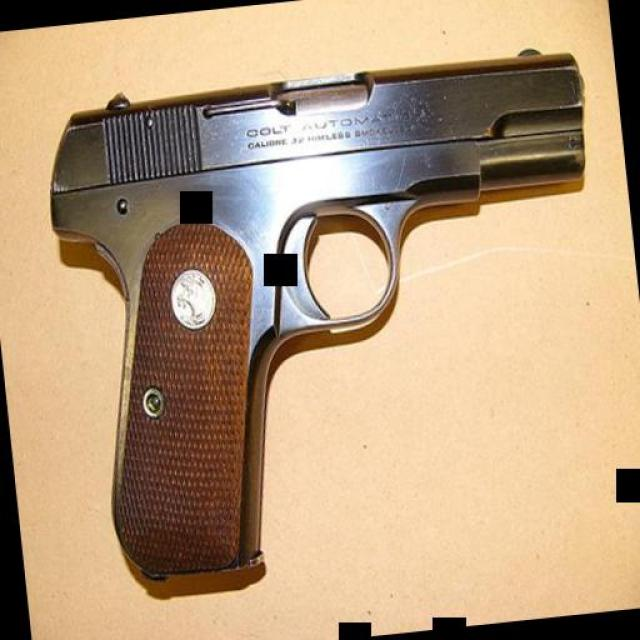gun: (37, 39, 628, 584)
